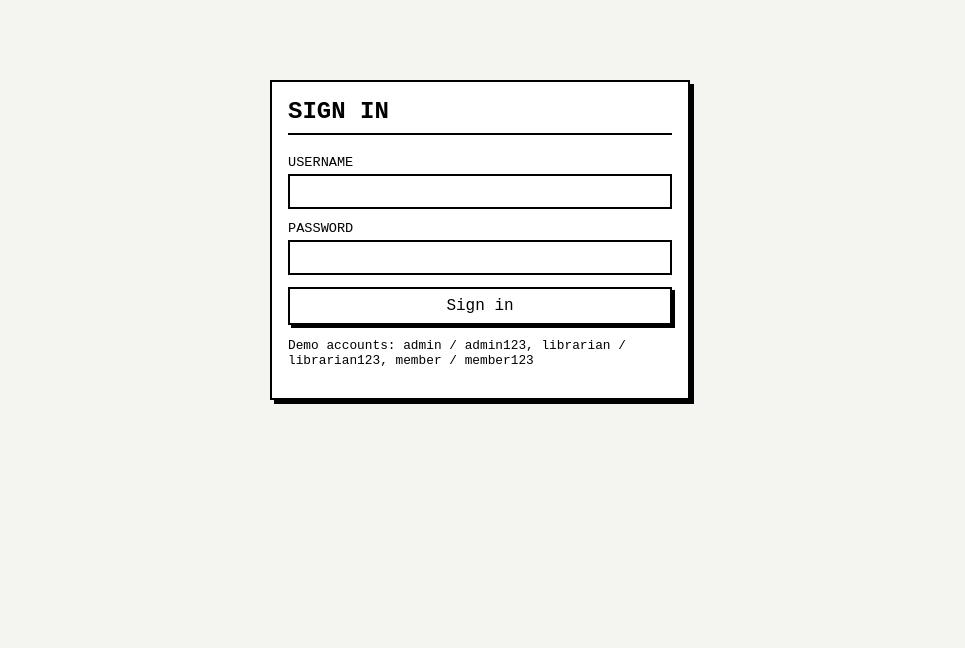
Test case: App › lands on the book list after signing in as a member, with no staff views
In the field labelled "Username": [480, 191] box left=288, top=174, right=672, bottom=209, type "member"
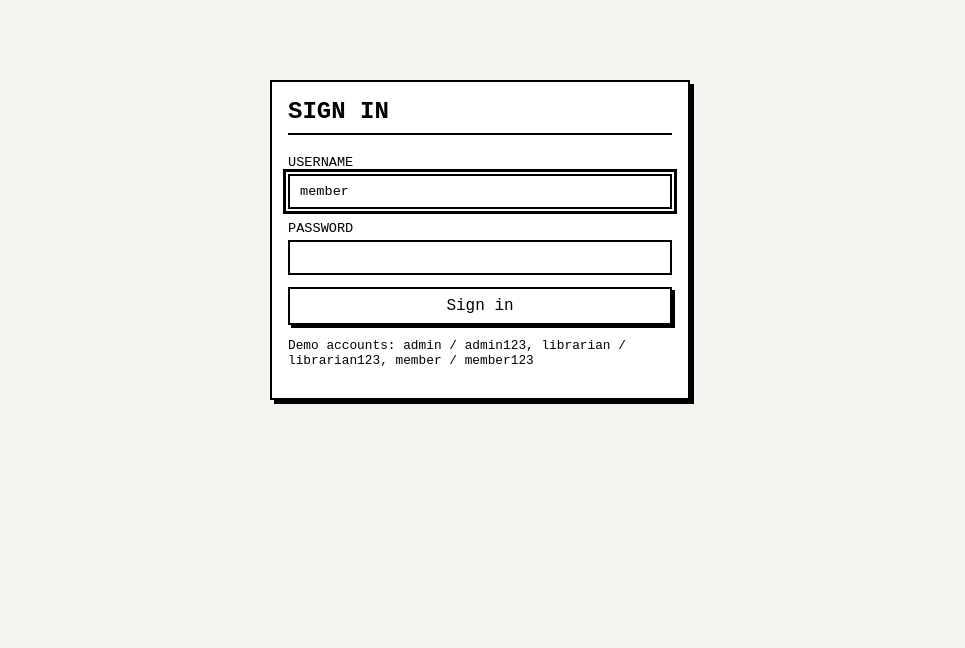
In the password field labelled "Password": [480, 257] box left=288, top=240, right=672, bottom=275, type "member123"
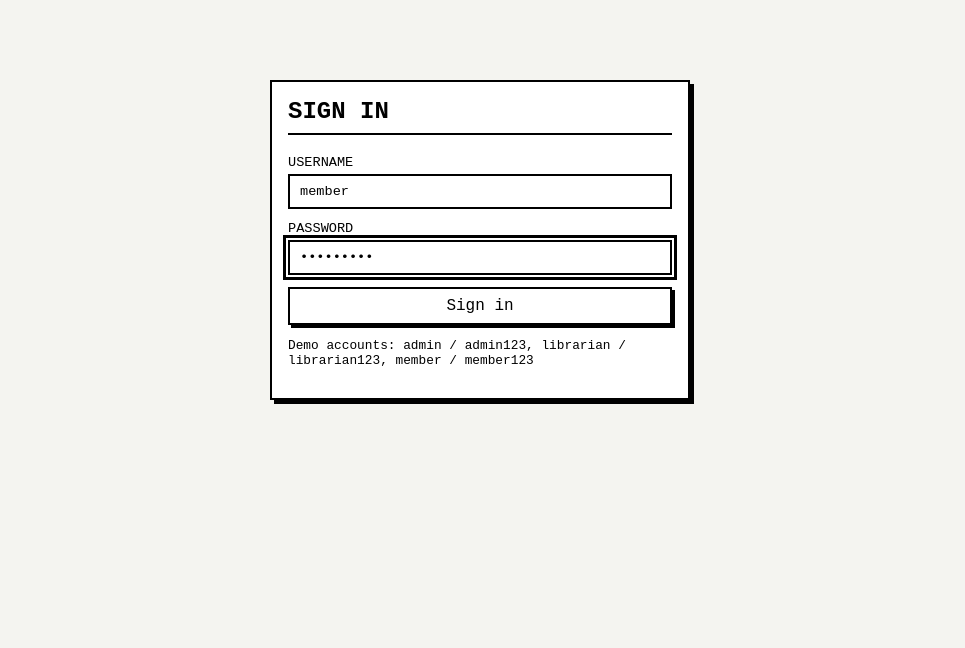
Click the button "Sign in": [480, 306] box left=288, top=287, right=672, bottom=325
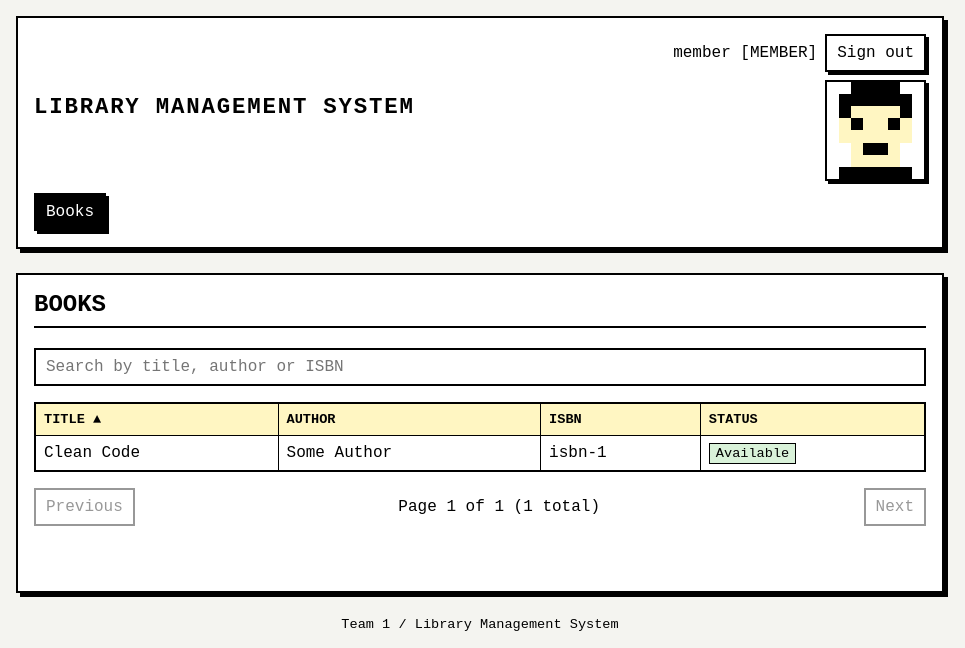
Expected: the text "Clean Code" is shown, left=35, top=435, right=278, bottom=471
